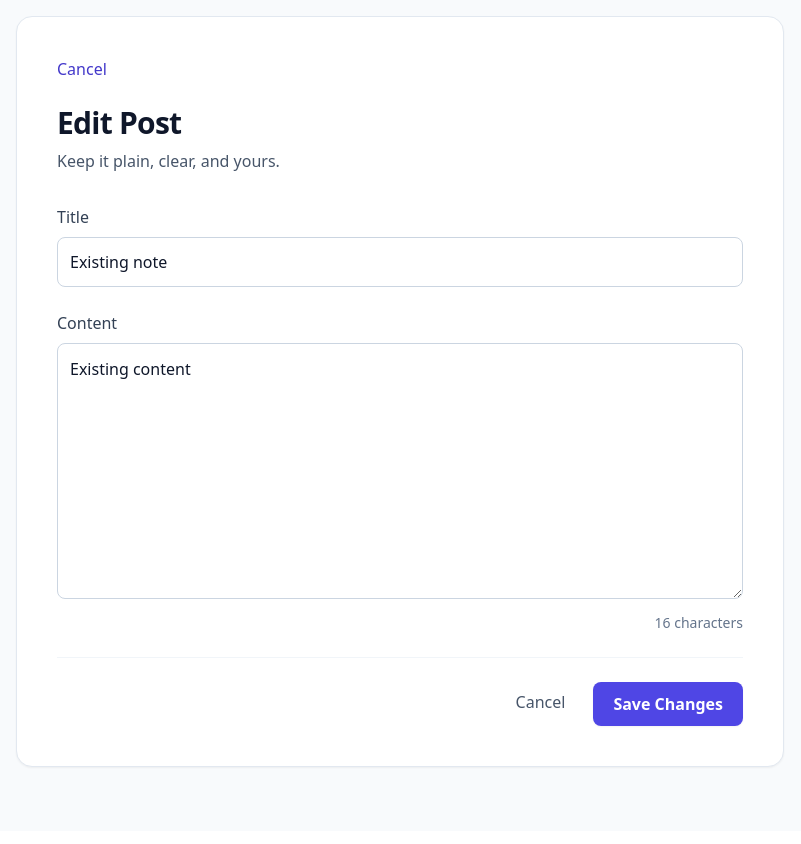
Test case: post editor › shows a save error and preserves the original post when an edit cannot be saved
Replace the text in the field labelled "Title" with "Unsaved update" at (400, 262), box [57,237,743,287]
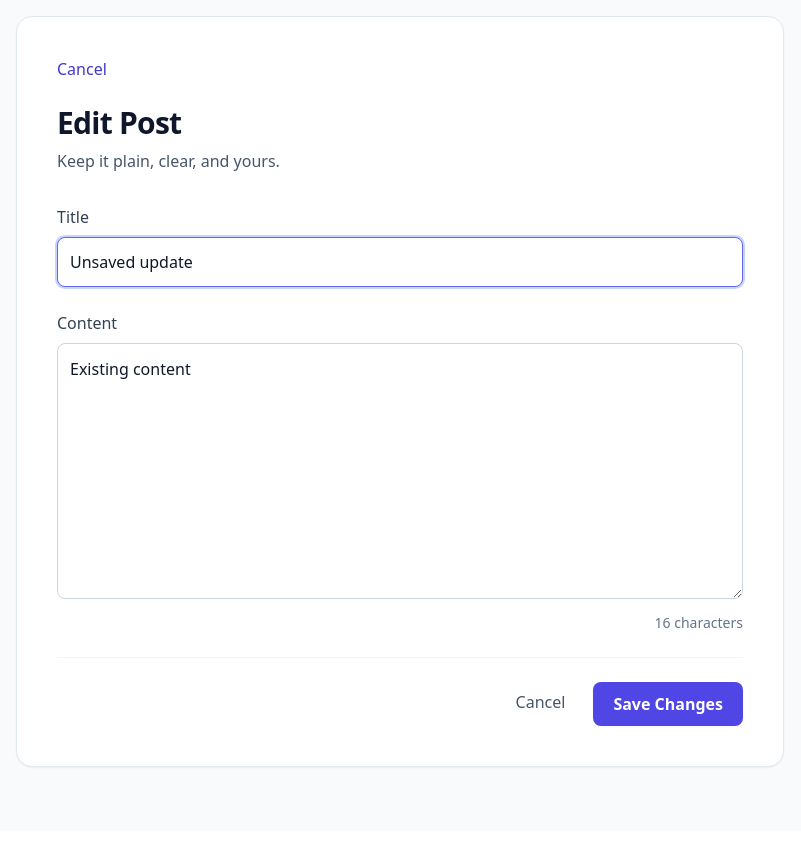
Click the button "Save Changes" at (668, 704), box [593,682,743,726]
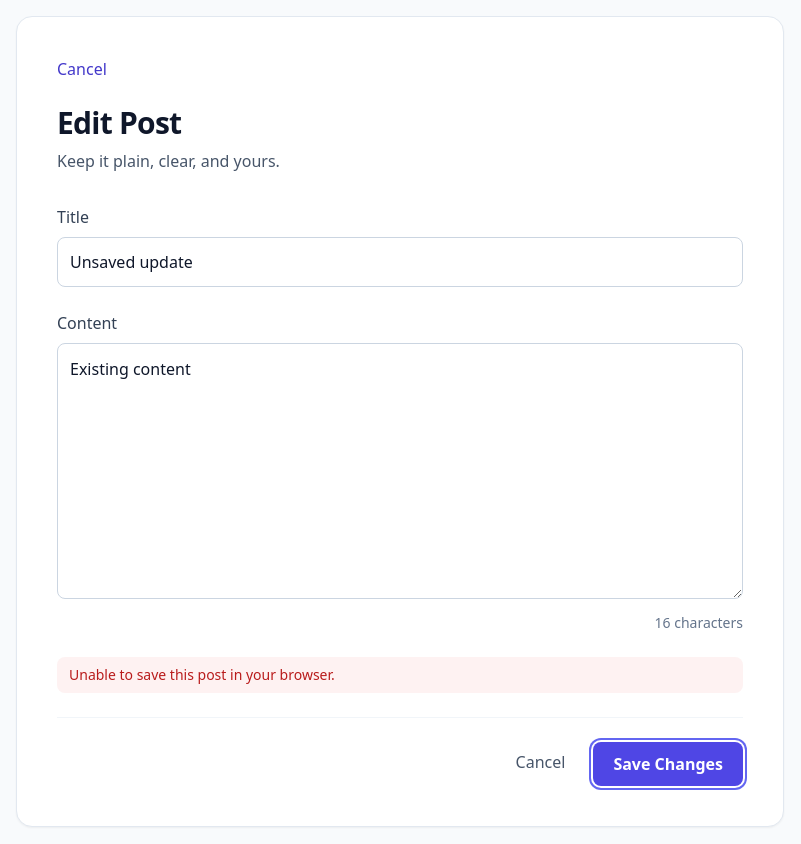
Expected: the message reads "Unable to save this post in your browser.", [69,665,335,684]
